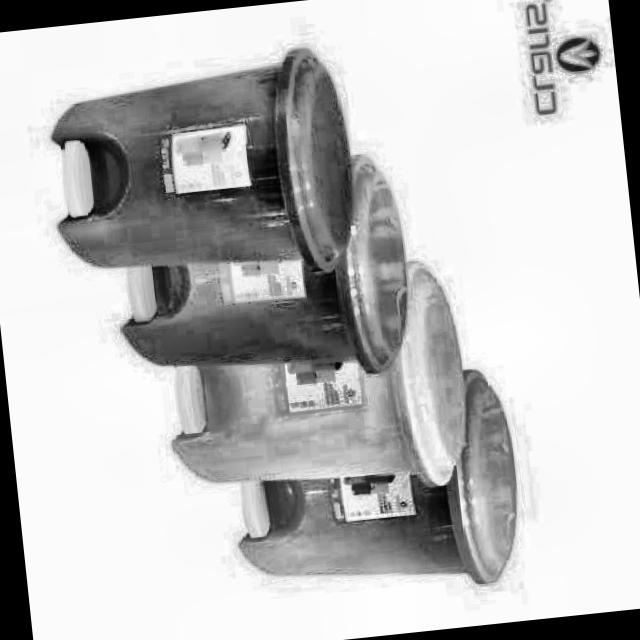Dustbin: (15, 35, 368, 308), (140, 365, 474, 524), (215, 458, 532, 618), (112, 241, 419, 402)
